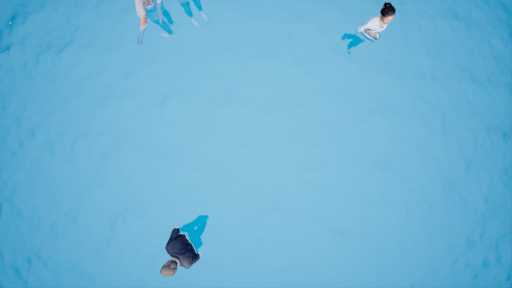person: (154, 209, 218, 279), (336, 1, 405, 61)
